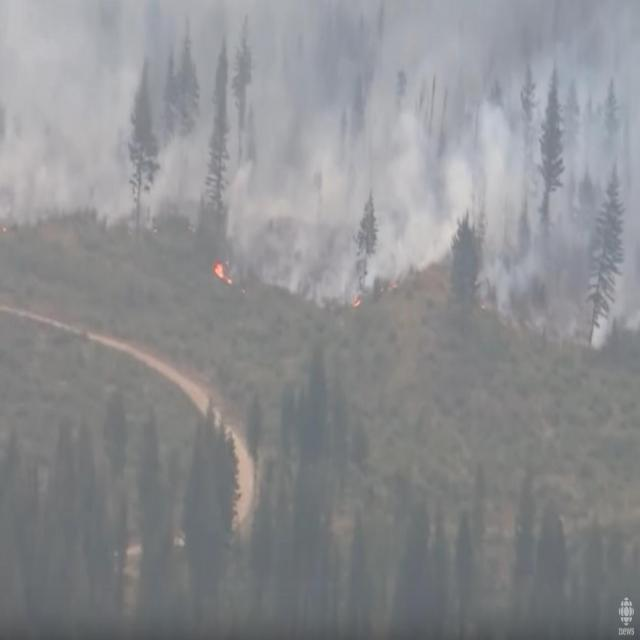Fire: (211, 257, 233, 286)
